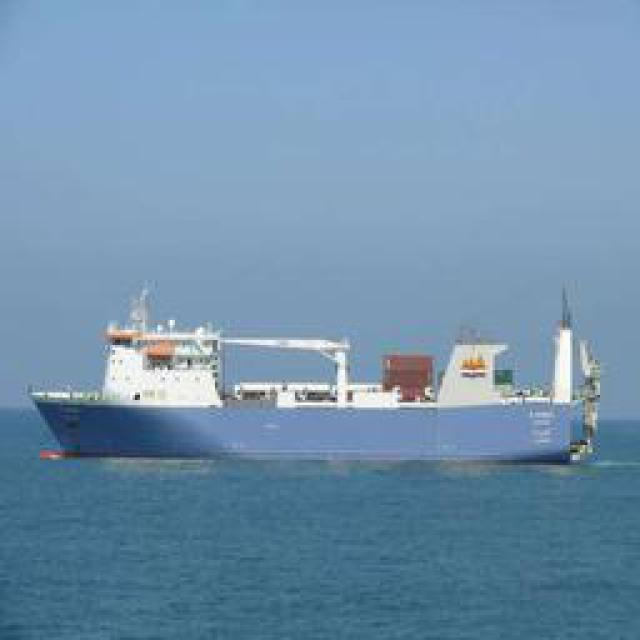Ship: (26, 307, 594, 467)
